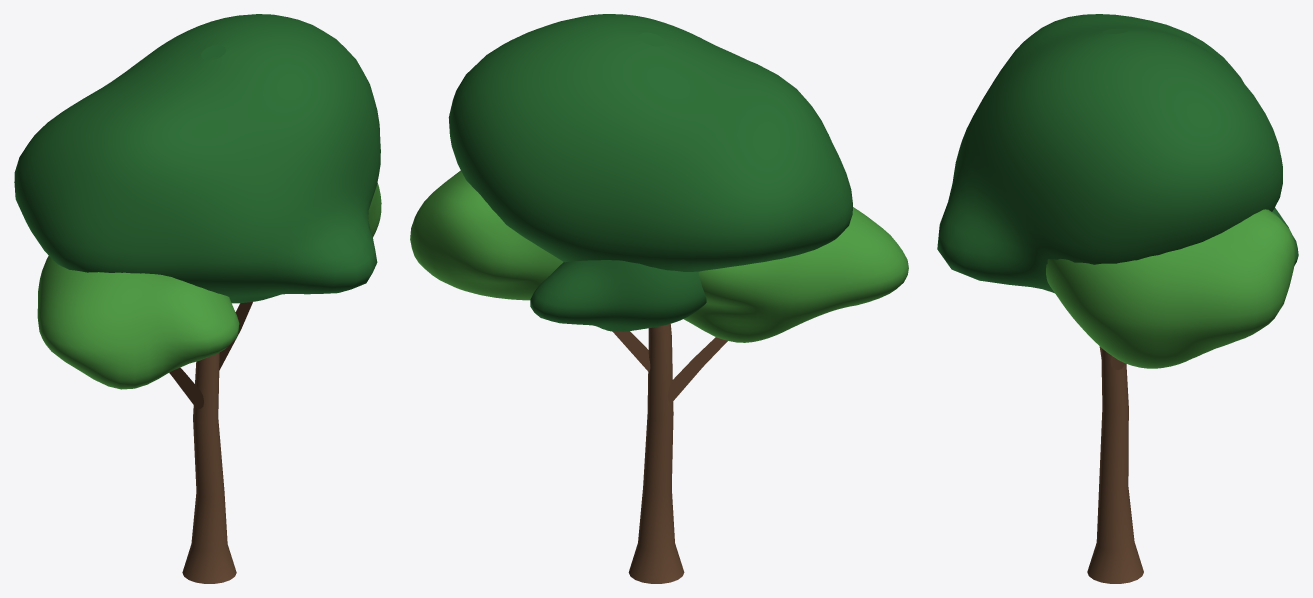
File: tree.glb
3 renders of one model, left to right at view 1: azimuth 30°, elevation 25°; view 2: azimuth 150°, elevation 25°; view 3: azimuth 270°, elevation 25°, orthographic. The views are drawn at different scales.
Visible parts, largest first — view 1: crown_main, crown_left, trunk, branches; view 2: crown_main, crown_left, crown_right, crown_back, trunk, branches; view 3: crown_main, crown_right, trunk.
Boxes of the visible parts, bbox=[...] form: crown_main: bbox=[14, 14, 380, 303]; crown_left: bbox=[37, 256, 239, 389]; trunk: bbox=[182, 352, 236, 583]; branches: bbox=[169, 302, 252, 408]; crown_main: bbox=[448, 14, 852, 271]; crown_left: bbox=[683, 207, 908, 342]; crown_right: bbox=[410, 170, 563, 300]; crown_back: bbox=[530, 260, 706, 331]; trunk: bbox=[628, 324, 684, 583]; branches: bbox=[613, 331, 727, 402]; crown_main: bbox=[937, 14, 1282, 293]; crown_right: bbox=[1046, 209, 1295, 368]; trunk: bbox=[1087, 348, 1143, 583].
Size of the model in its own units: 4.86 by 6.4 by 3.82.
